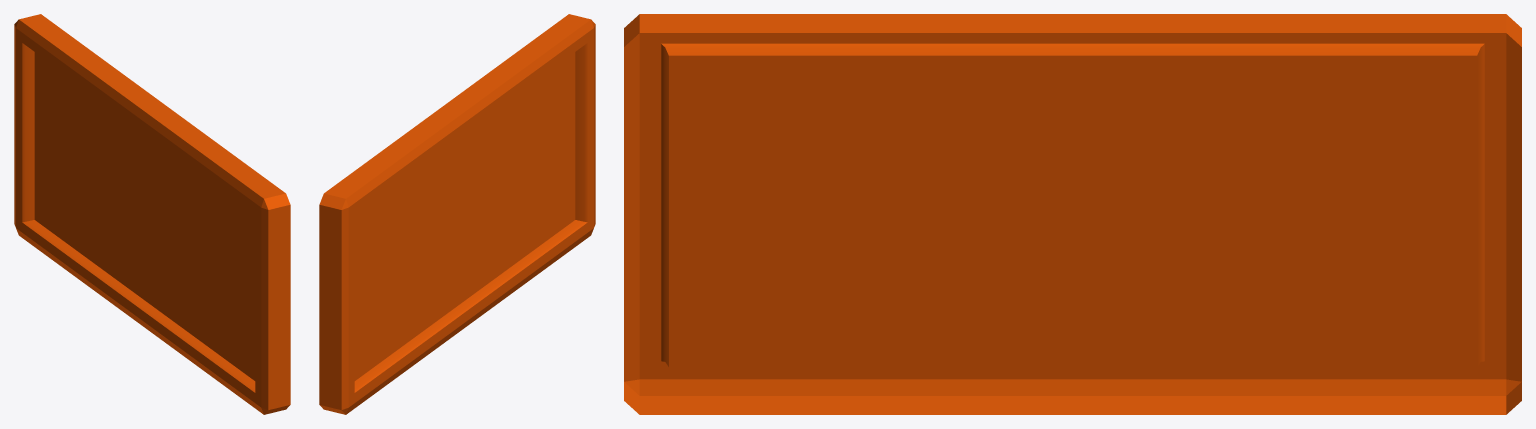
The model's file is Acces_LCD.fbx.
3 renders of one model, left to right at view 1: azimuth 30°, elevation 25°; view 2: azimuth 150°, elevation 25°; view 3: azimuth 270°, elevation 25°, orthographic. The views are drawn at different scales.
Parts seen in each view (by area): view 1: Acces_LCD; view 2: Acces_LCD; view 3: Acces_LCD.
Part boxes in pixels (<box>): Acces_LCD: <box>14,14,290,414</box>; Acces_LCD: <box>319,14,595,414</box>; Acces_LCD: <box>624,14,1521,414</box>.
Bounding box in the file's own units: 0.517 × 4.3 × 9.15.
